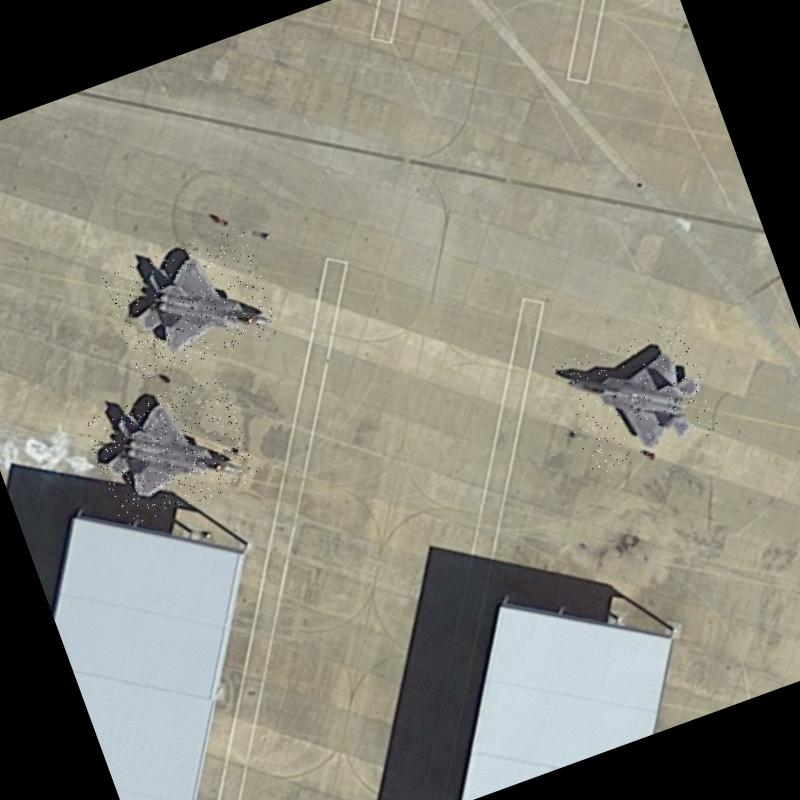A15: (82, 370, 260, 530), (102, 224, 282, 382), (550, 320, 719, 478)
